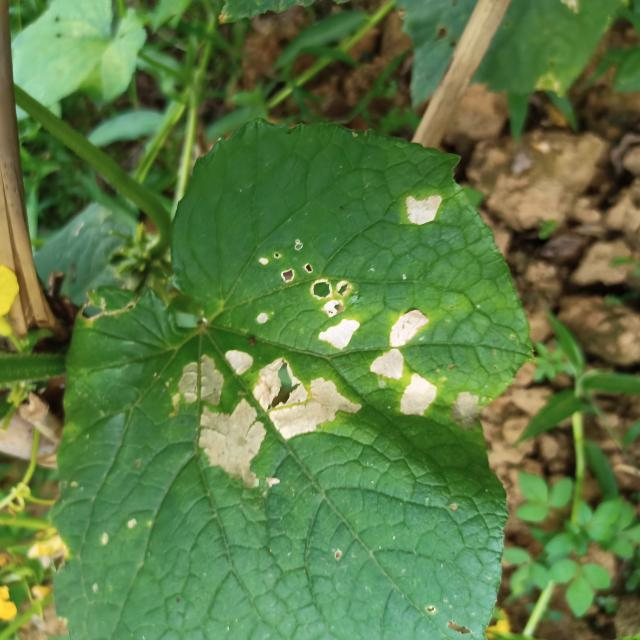disease_cucumber: (170, 344, 362, 494), (251, 239, 356, 356), (371, 306, 441, 423), (401, 187, 451, 237)
